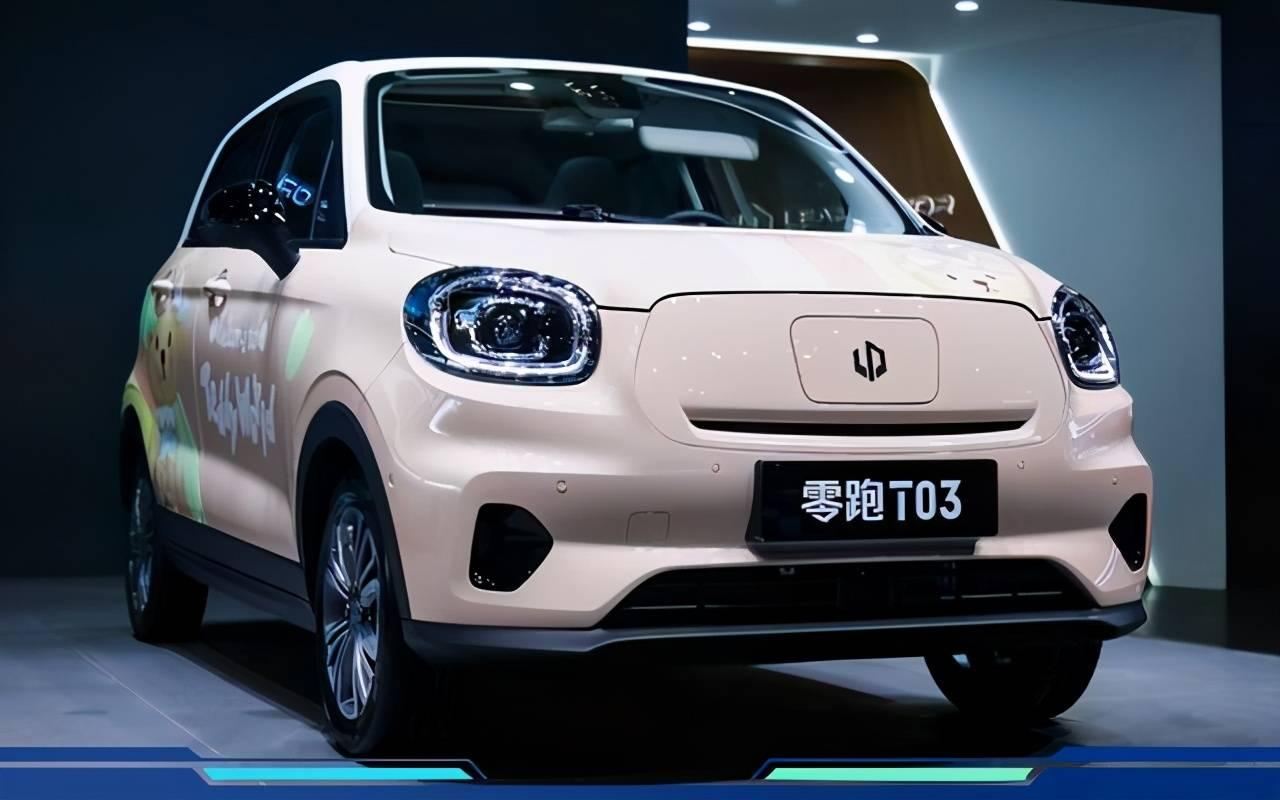LEAPMOTOR: (852, 340, 887, 383)
